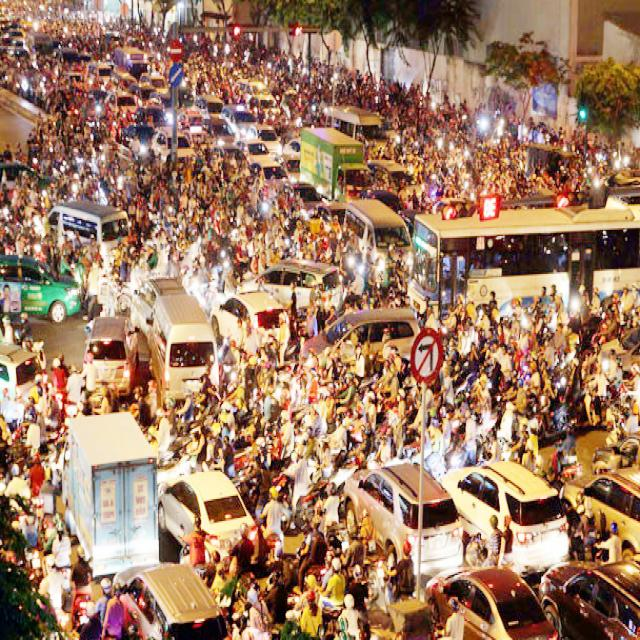Car: (415, 214, 640, 295), (440, 459, 571, 575), (343, 462, 464, 580), (64, 414, 142, 558), (426, 565, 560, 640), (158, 469, 260, 565), (112, 561, 232, 640), (148, 293, 220, 410), (300, 307, 423, 374), (540, 559, 640, 640), (341, 198, 414, 293), (240, 258, 346, 317), (0, 254, 82, 323), (210, 288, 290, 356), (582, 466, 640, 559), (314, 314, 412, 367), (83, 315, 139, 399), (130, 276, 188, 342), (0, 341, 44, 418), (299, 131, 359, 183), (60, 205, 120, 247), (592, 424, 640, 476), (599, 322, 640, 378), (151, 128, 197, 163), (0, 162, 40, 202), (281, 181, 324, 217), (8, 65, 48, 101), (120, 124, 156, 162), (221, 103, 258, 139), (114, 46, 152, 78), (239, 139, 278, 168), (206, 114, 240, 146), (247, 94, 282, 124), (132, 103, 168, 130), (139, 71, 170, 100), (233, 79, 270, 103), (253, 124, 282, 154), (194, 94, 225, 118), (282, 138, 302, 168)
